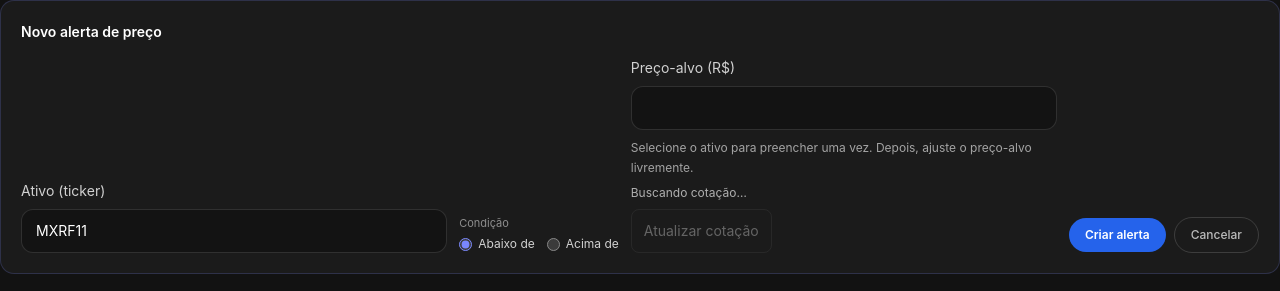
Test case: consulta inicial atrasada também preserva o preço já digitado
In the number field: (844, 108) [631,86,1057,130], type "7"
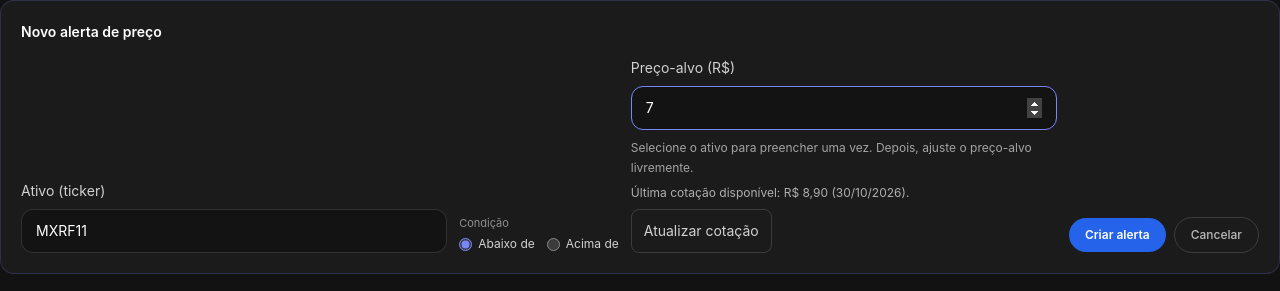
Expected: the text "Última cotação disponível: R$ 8,90 (30/10/2026)." is shown, [631,185,909,200]
